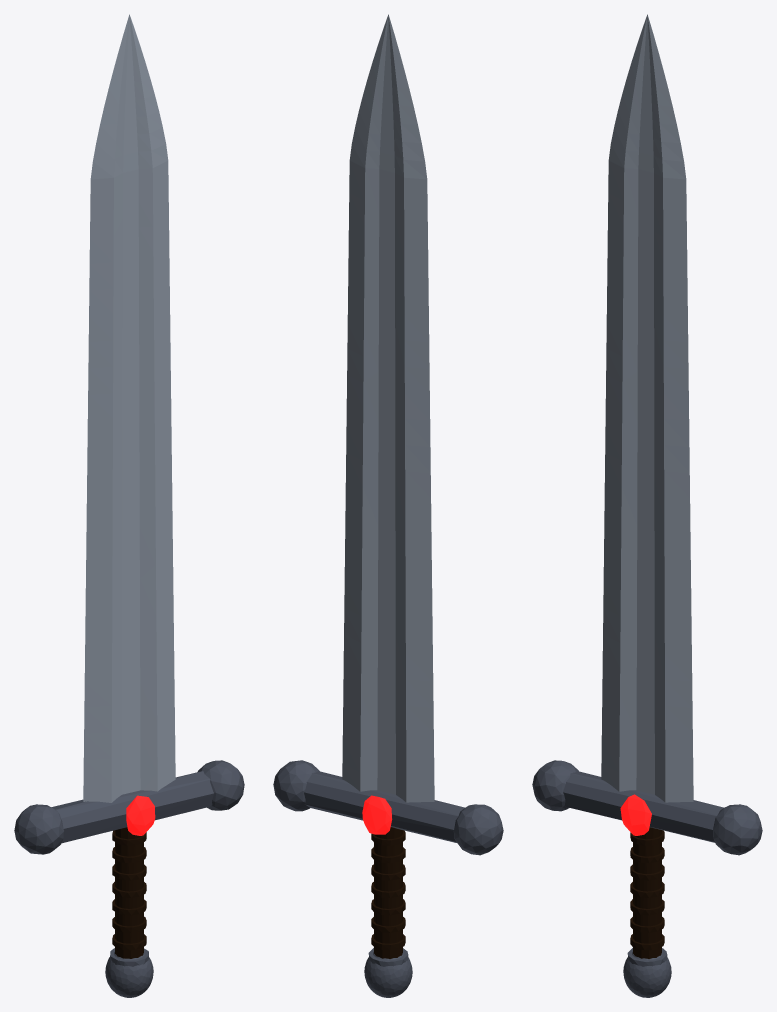
File: sword_1.glb
3 views of the same model, side by side, from view 1: azimuth 30°, elevation 25°; view 2: azimuth 150°, elevation 25°; view 3: azimuth 330°, elevation 25° (orthographic).
Parts seen in each view (by area): view 1: part_01, part_02, part_07, part_03, part_04, part_15, part_05; view 2: part_01, part_02, part_07, part_03, part_04, part_15, part_06; view 3: part_01, part_02, part_07, part_04, part_03, part_15, part_05.
Part boxes in pixels (<box>): part_01: <box>83,14,175,802</box>; part_02: <box>51,771,213,843</box>; part_07: <box>115,827,143,958</box>; part_03: <box>14,804,64,854</box>; part_04: <box>197,760,244,810</box>; part_15: <box>105,952,153,997</box>; part_05: <box>126,795,155,835</box>; part_01: <box>342,14,434,802</box>; part_02: <box>304,771,464,842</box>; part_07: <box>374,827,402,958</box>; part_03: <box>453,804,503,855</box>; part_04: <box>273,760,319,811</box>; part_15: <box>364,952,412,997</box>; part_06: <box>362,795,392,834</box>; part_01: <box>601,14,693,802</box>; part_02: <box>563,771,723,842</box>; part_07: <box>633,827,661,958</box>; part_04: <box>713,804,762,855</box>; part_03: <box>532,760,578,811</box>; part_15: <box>623,952,671,997</box>; part_05: <box>620,794,651,835</box>.
Bounding box in the file's own units: 0.2994 × 1.26 × 0.0728.
